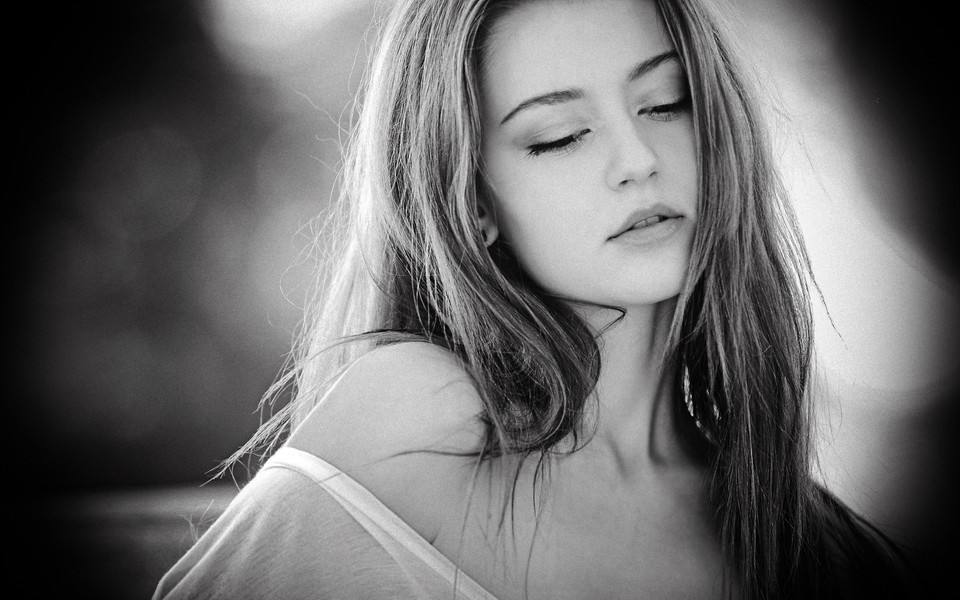person: (315, 8, 770, 586)
